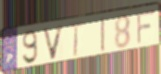8: (113, 13, 133, 50)
9: (21, 29, 39, 66)
F: (136, 8, 156, 46)
I: (99, 16, 106, 54)
T: (68, 20, 85, 59)
V: (41, 24, 65, 61)
